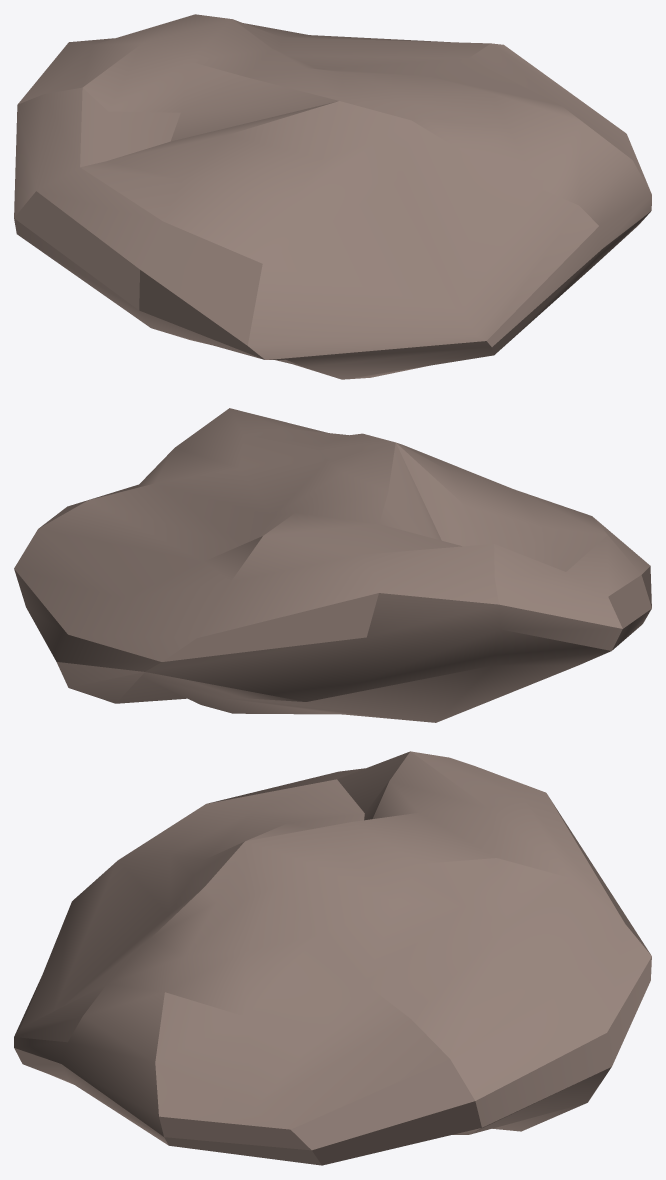
File: rock13.fbx
The picture shows the model from 3 angles, top to bottom: view 1: azimuth 30°, elevation 25°; view 2: azimuth 150°, elevation 25°; view 3: azimuth 270°, elevation 25°; orthographic projection. The views are drawn at different scales.
Parts seen in each view (by area): view 1: rock13; view 2: rock13; view 3: rock13.
Boxes of the visible parts, x1,y1,x2,y2 form: rock13: (14,14,651,379); rock13: (14,408,651,722); rock13: (14,751,651,1165).
Size of the model in its own units: 2.12 by 0.7927 by 1.88.
